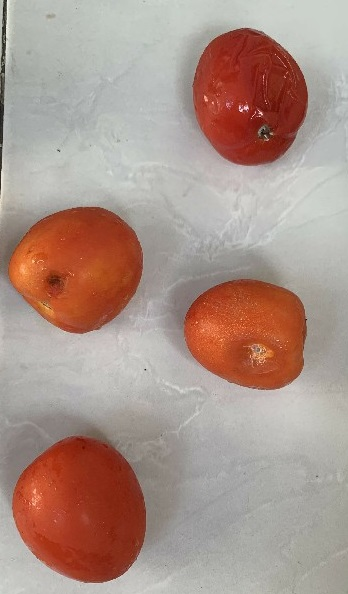NG: (3, 197, 153, 338), (186, 17, 313, 175), (180, 277, 313, 398)
OK: (11, 433, 157, 587)
